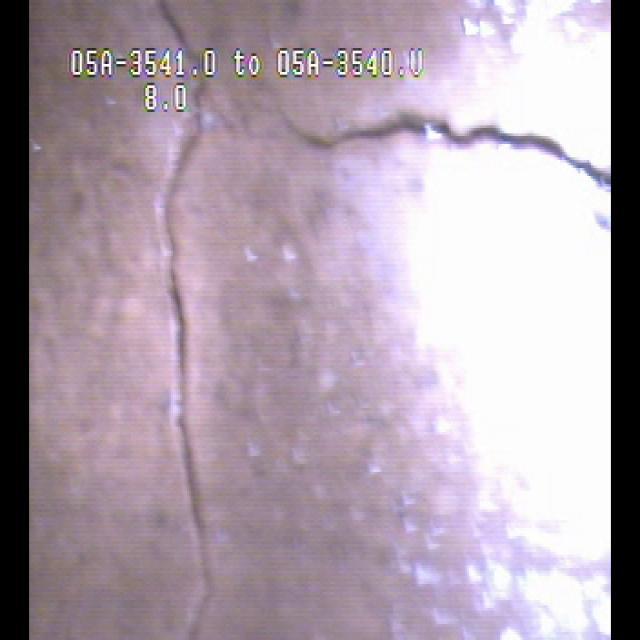Crack: (140, 132, 251, 592), (304, 96, 561, 198)
